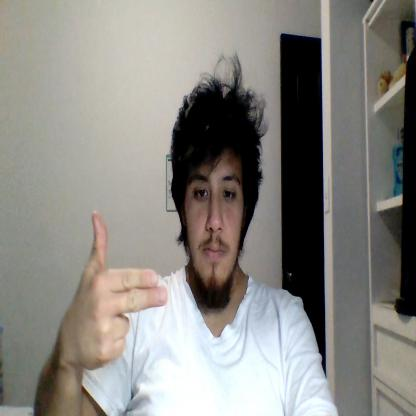H: (71, 211, 167, 370)
